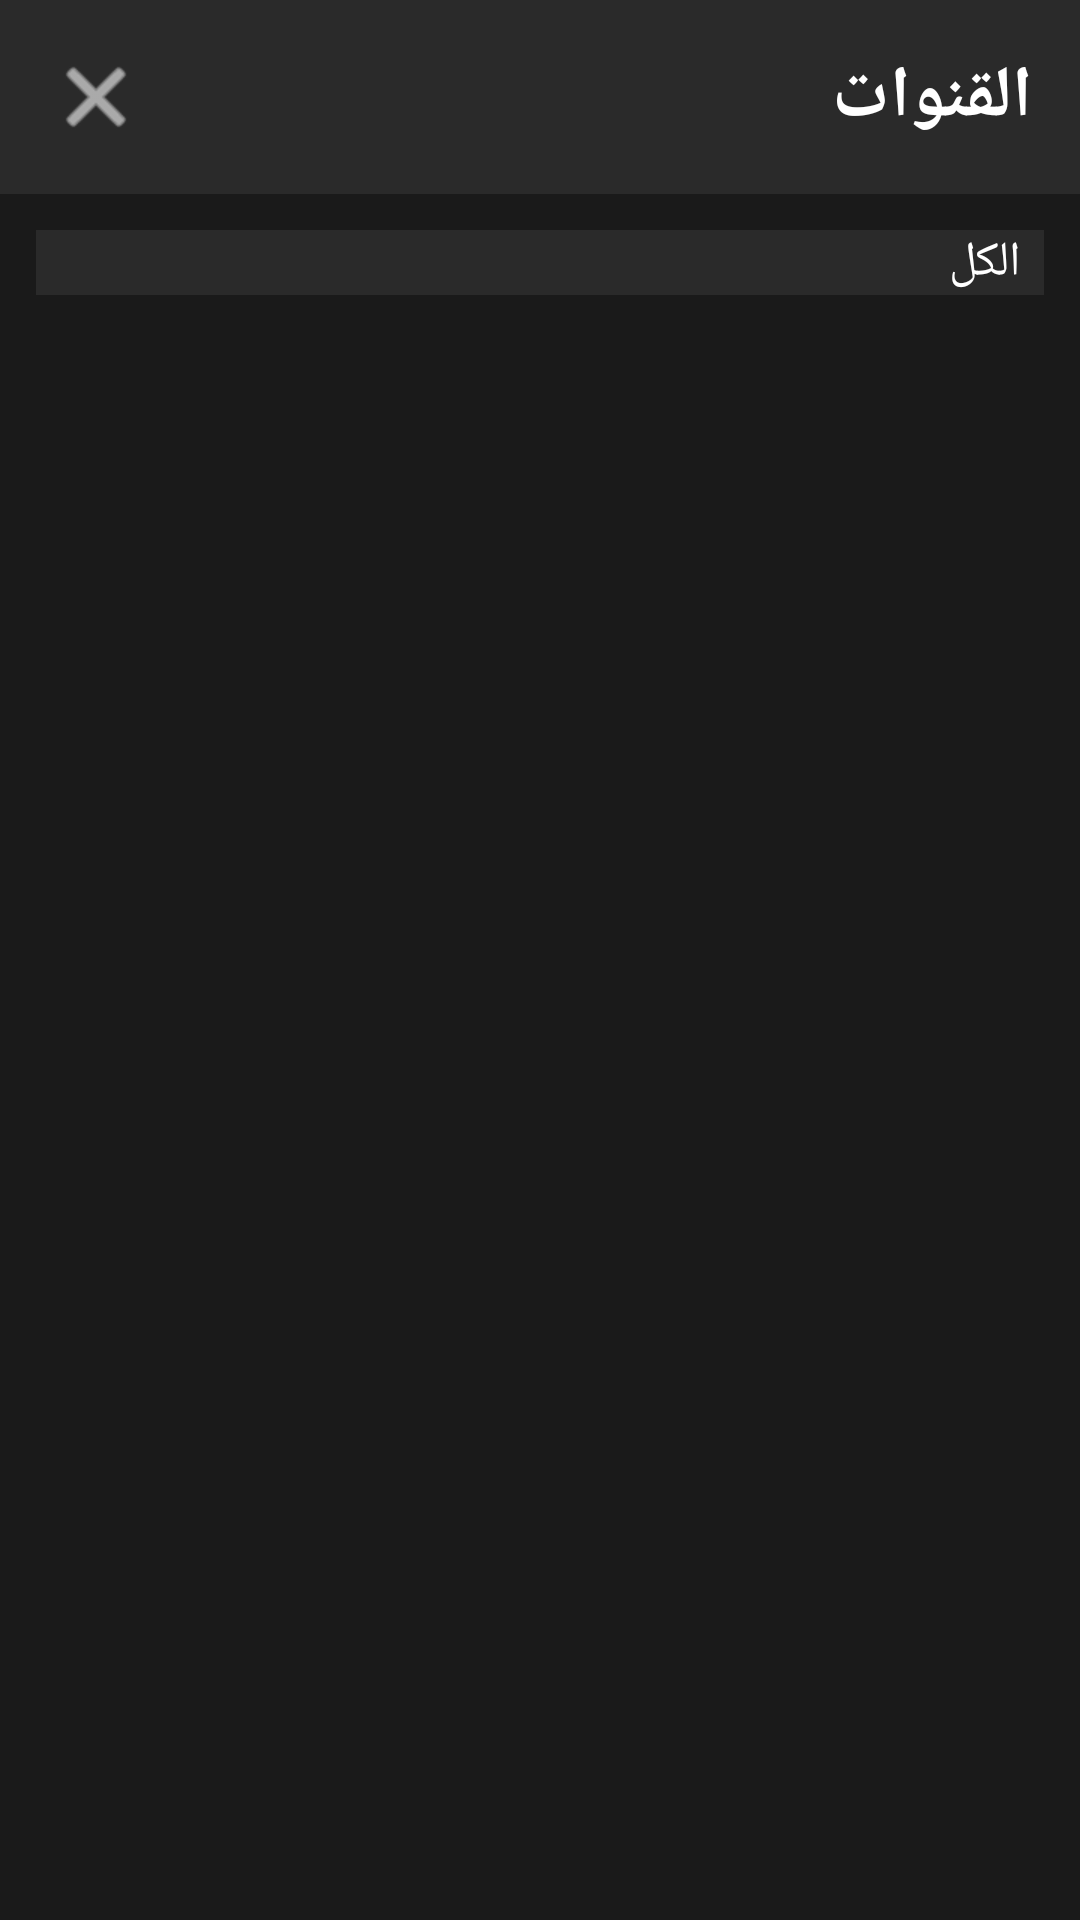

Icon click points for this 1080px x 1920px phone screenshot, format [x,y]:
Back: [96,97]
